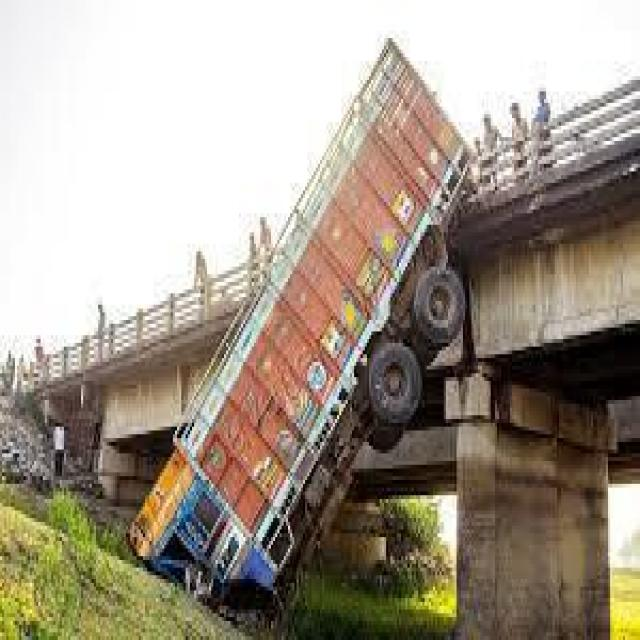accident: (121, 31, 474, 617)
